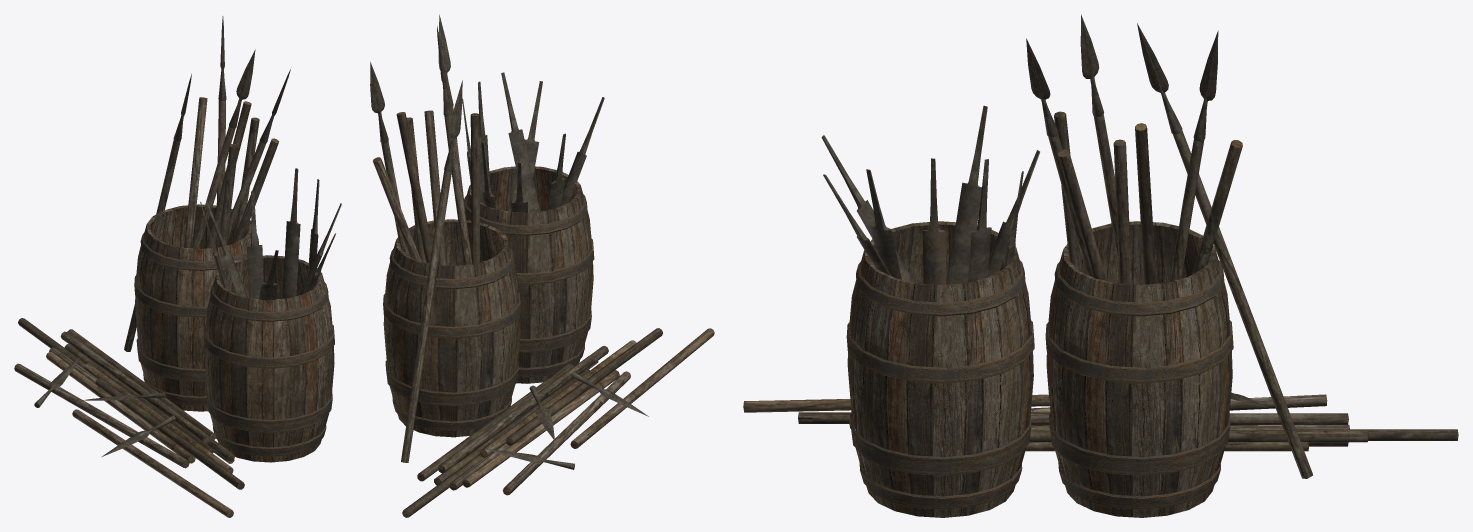
Rendered from VIK_PRO_Workshop_Weapon_WS_01A_LOD0-transformed.glb.
3 renders of one model, left to right at view 1: azimuth 30°, elevation 25°; view 2: azimuth 150°, elevation 25°; view 3: azimuth 270°, elevation 25°, orthographic. The views are drawn at different scales.
Visible parts, largest first — view 1: default; view 2: default; view 3: default.
Part boxes in pixels (x1,y1,x2,y2): default: (14,16,341,517); default: (370,14,714,517); default: (743,14,1458,517).
Bounding box in the file's own units: 1.39 × 2.3 × 2.99.
Materials: 2 (2 with a texture image).
